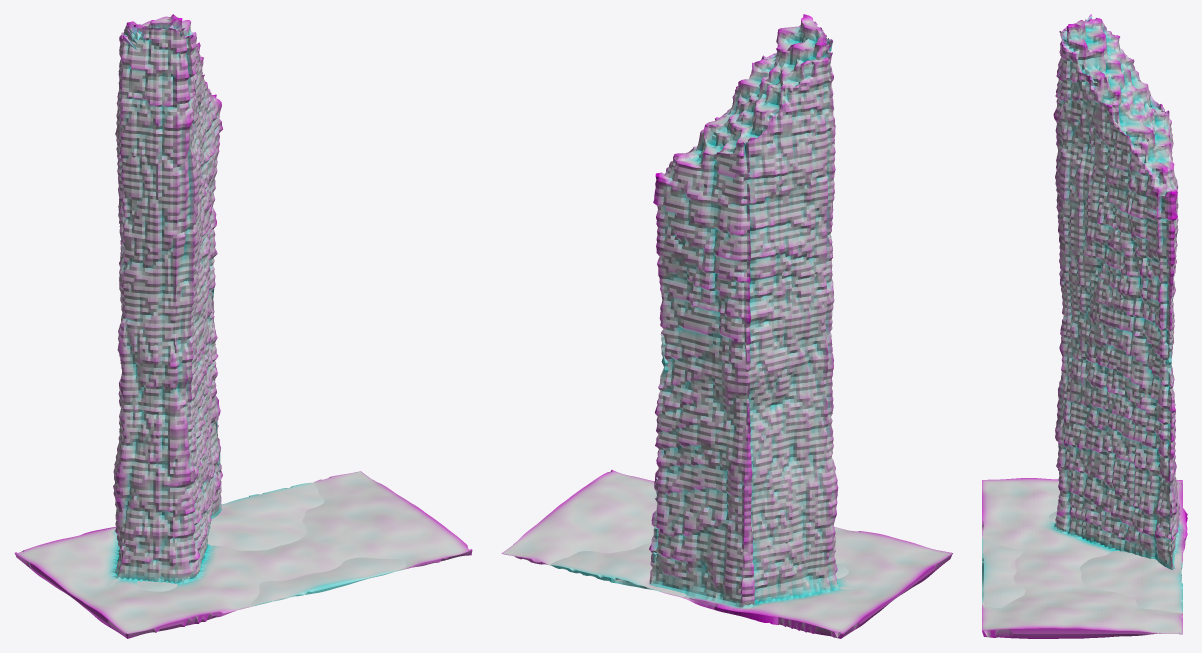
The model's file is Macico_Vilas_Remendo.fbx.
The picture shows the model from 3 angles, left to right: view 1: azimuth 30°, elevation 25°; view 2: azimuth 150°, elevation 25°; view 3: azimuth 270°, elevation 25°; orthographic projection. The views are drawn at different scales.
Parts seen in each view (by area): view 1: Macico_Vilas_Remendo; view 2: Macico_Vilas_Remendo; view 3: Macico_Vilas_Remendo.
Part boxes in pixels (left/top/right/bottom): Macico_Vilas_Remendo: left=14, top=14, right=472, bottom=638; Macico_Vilas_Remendo: left=501, top=14, right=952, bottom=638; Macico_Vilas_Remendo: left=982, top=14, right=1187, bottom=638.
Size of the model in its own units: 196 by 307 by 113.
